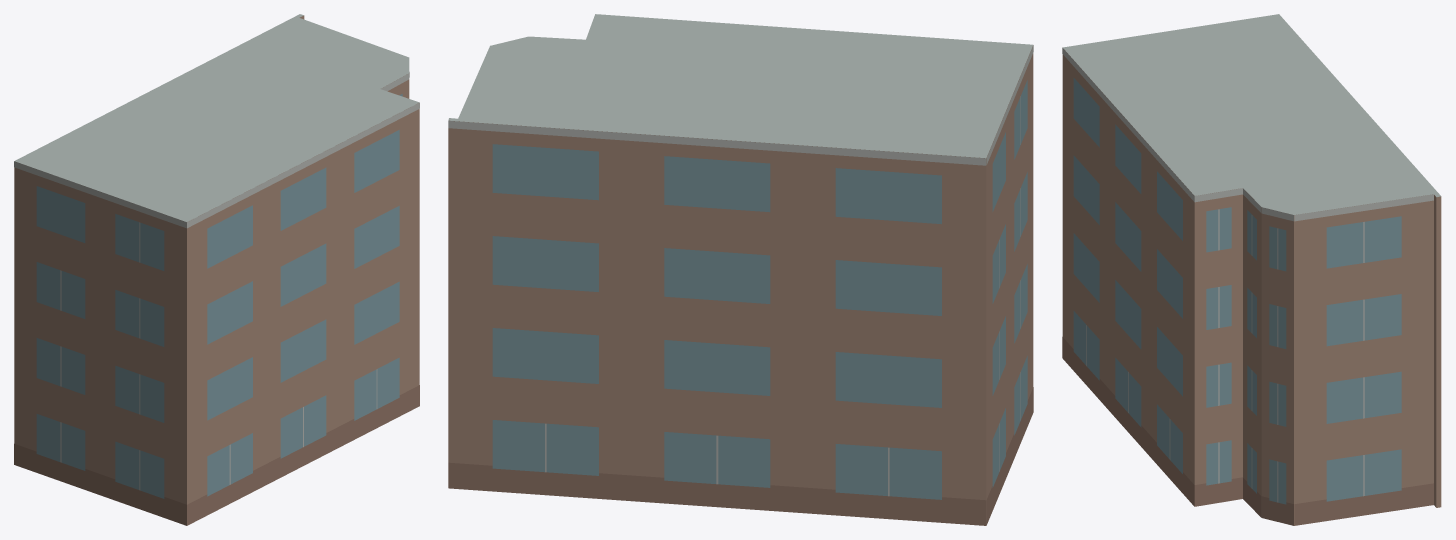
The model's file is survey-upis-32950694.glb.
The picture shows the model from 3 angles, left to right: view 1: azimuth 30°, elevation 25°; view 2: azimuth 150°, elevation 25°; view 3: azimuth 270°, elevation 25°; orthographic projection. The views are drawn at different scales.
Visible parts, largest first — view 1: survey-upis-32950694.tmp; view 2: survey-upis-32950694.tmp; view 3: survey-upis-32950694.tmp.
Boxes of the visible parts, left/top/right/bottom form: survey-upis-32950694.tmp: left=14, top=14, right=419, bottom=525; survey-upis-32950694.tmp: left=448, top=14, right=1033, bottom=525; survey-upis-32950694.tmp: left=1062, top=14, right=1441, bottom=525.
Bounding box in the file's own units: 16.52 × 11.9 × 13.16.
